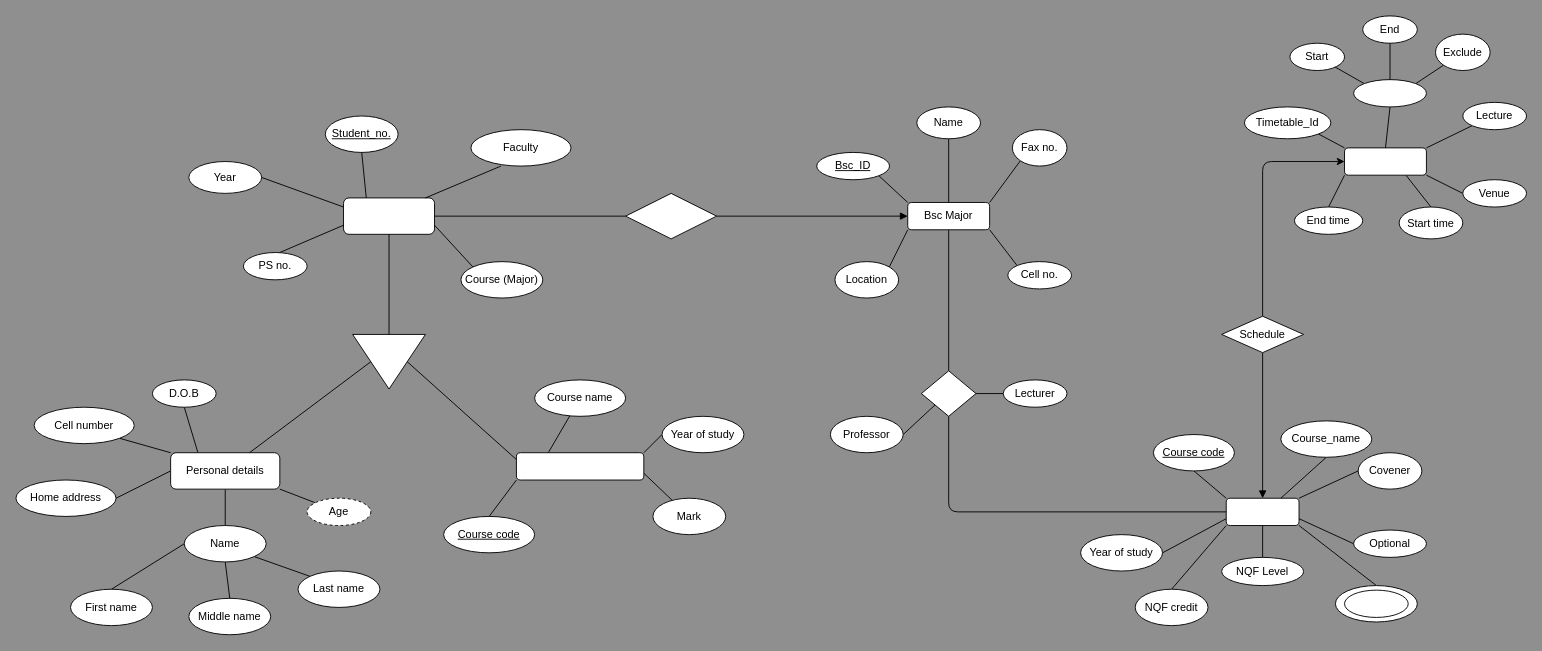
This 1542x651 diagram has some shape labels left out. Each missing label, with the centre of its shape:
"Academic record" goes at (580,466).
"Courses" goes at (1262,511).
"Day" goes at (1389,93).
"Has" goes at (948,393).
"Interested" goes at (671,215).
"ISA" goes at (388,361).
"Prereqs" goes at (1376,603).
"Student" goes at (389,215).
"Timetable" goes at (1385,161).
